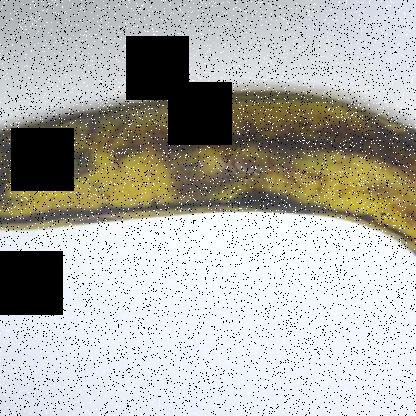overripe: (1, 74, 415, 323)
